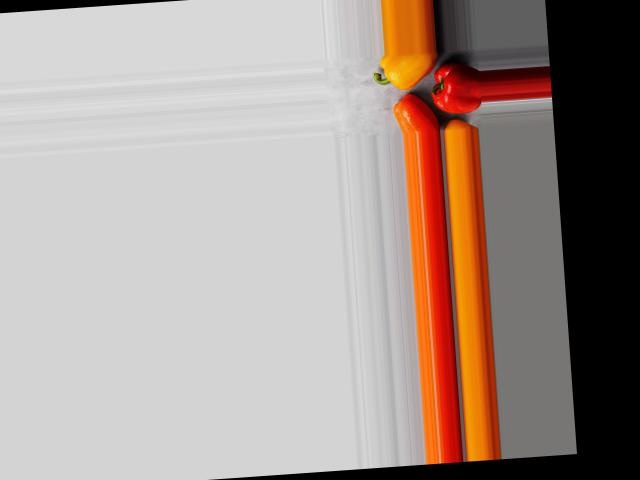bell_pepper: (430, 56, 481, 114)
